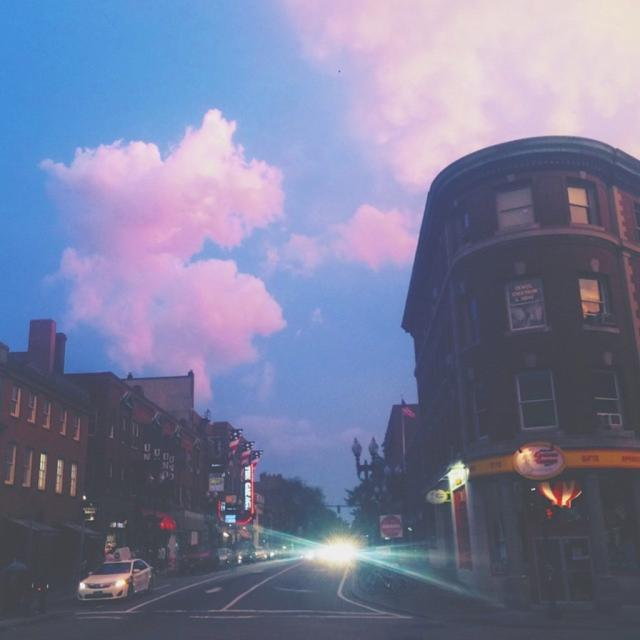car: (71, 560, 151, 612)
